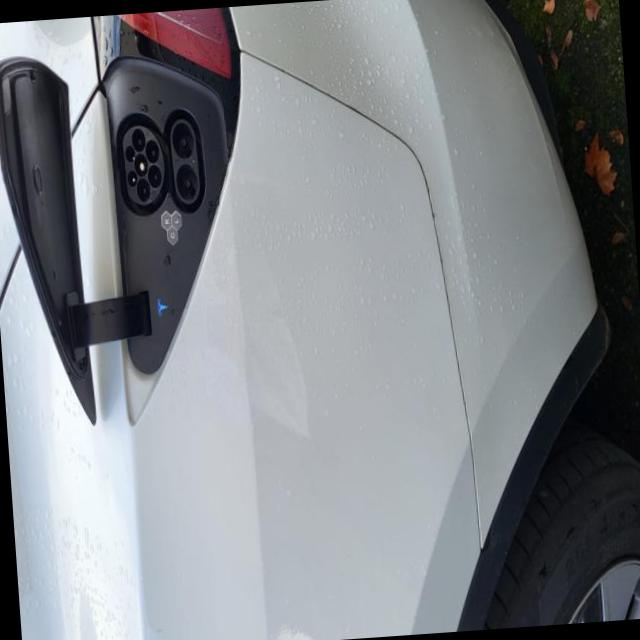inlet: (122, 125, 164, 204)
inlet-above-left: (127, 170, 136, 185)
inlet-above-right: (125, 145, 134, 160)
inlet-below-left: (148, 163, 161, 187)
inlet-below-right: (145, 139, 158, 162)
inlet-center: (134, 152, 147, 175)
inlet-center-left: (136, 177, 150, 200)
inlet-center-right: (131, 127, 145, 150)
